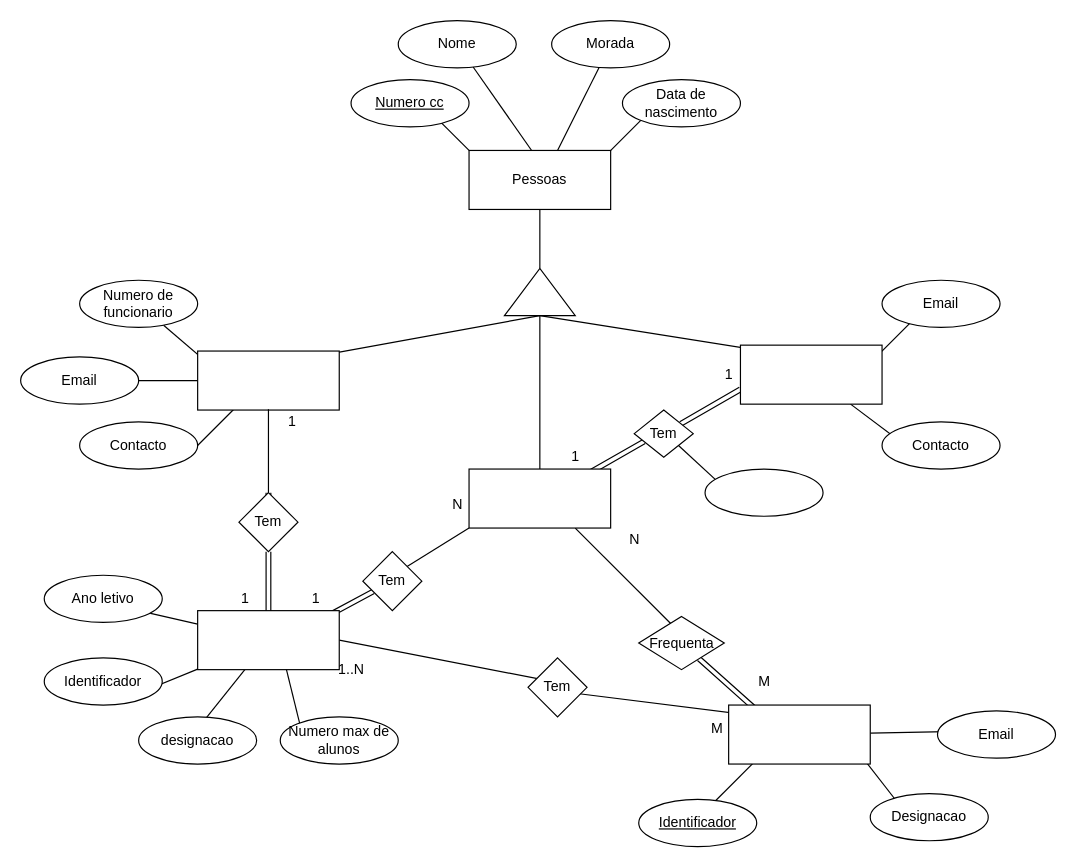
Image size: 1076x867. Some labels were removed from this diagram. Here are the shapes that lost their labels. From the top down, the box of each, then its label:
(503, 267, 575, 316): sao
(196, 350, 339, 410): Professor
(739, 344, 882, 404): Encarregado de educacao
(468, 468, 611, 528): Aluno
(704, 468, 823, 516): Relacao
(196, 609, 339, 670): Turma
(727, 704, 870, 764): Atividade
